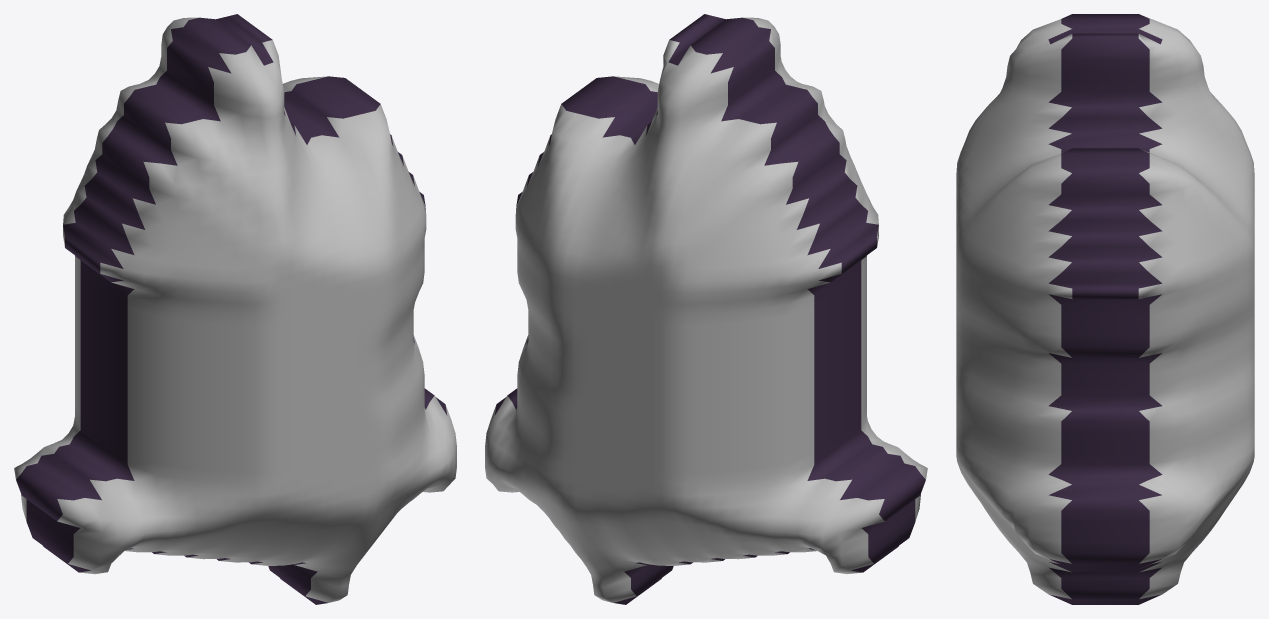
Rendered from dollhouse.glb.
The picture shows the model from 3 angles, left to right: view 1: azimuth 30°, elevation 25°; view 2: azimuth 150°, elevation 25°; view 3: azimuth 270°, elevation 25°; orthographic projection. The views are drawn at different scales.
Parts seen in each view (by area): view 1: dollhouse; view 2: dollhouse; view 3: dollhouse.
Boxes of the visible parts, x1,y1,x2,y2 form: dollhouse: [14, 14, 456, 604]; dollhouse: [485, 14, 927, 604]; dollhouse: [956, 14, 1254, 604].
Size of the model in its own units: 0.6231 by 0.8827 by 0.4404.
